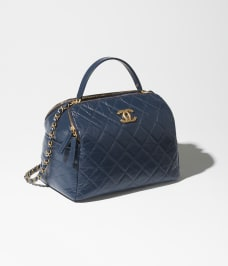channel: (33, 74, 201, 201), (80, 146, 174, 181), (42, 107, 69, 186), (118, 105, 137, 121)
